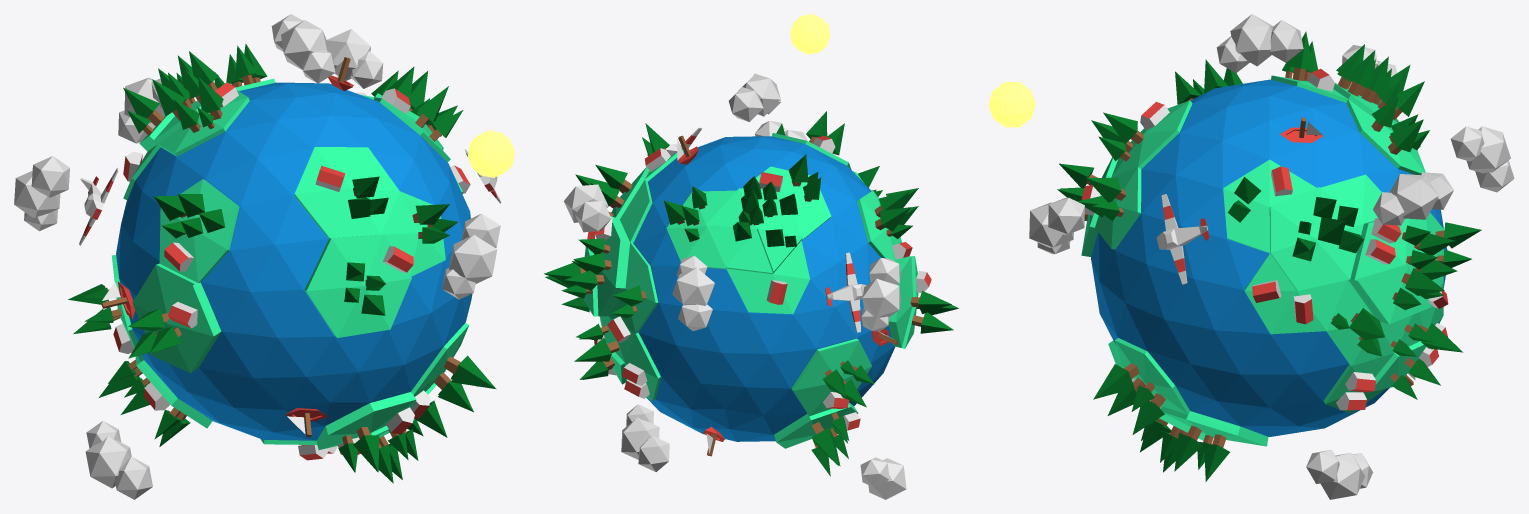
File: World.fbx
3 views of the same model, side by side, from view 1: azimuth 30°, elevation 25°; view 2: azimuth 150°, elevation 25°; view 3: azimuth 270°, elevation 25° (orthographic). The views are drawn at different scales.
Visible parts, largest first — view 1: Water, Earth, Icosphere.005, Icosphere.002, Icosphere.006, Icosphere, Icosphere.001, Sun, Icosphere.004, Plane.001, Tree.080, Tree.081 (+12 smaller); view 2: Water, Earth, Icosphere.006, Icosphere.004, Icosphere.003, Icosphere, Icosphere.001, Icosphere.005, Sun, Plane.001, Tree.054, Tree.065 (+7 smaller); view 3: Water, Earth, Icosphere, Icosphere.001, Icosphere.004, Icosphere.003, Icosphere.002, Sun, Plane, Tree.080, Tree.056, Tree.070 (+13 smaller).
Boxes of the visible parts, x1,y1,x2,y2 form: Water: [116, 82, 472, 440]; Earth: [111, 78, 468, 449]; Icosphere.005: [85, 421, 152, 499]; Icosphere.002: [442, 213, 500, 299]; Icosphere.006: [14, 156, 69, 231]; Icosphere: [271, 14, 335, 83]; Icosphere.001: [325, 29, 383, 88]; Sun: [468, 130, 514, 177]; Icosphere.004: [118, 77, 165, 143]; Plane.001: [79, 167, 118, 245]; Tree.080: [444, 355, 496, 389]; Tree.081: [353, 427, 379, 472]; Water: [633, 136, 894, 441]; Earth: [582, 133, 918, 448]; Icosphere.006: [861, 258, 900, 331]; Icosphere.004: [672, 255, 714, 331]; Icosphere.003: [621, 404, 669, 471]; Icosphere: [728, 73, 780, 121]; Icosphere.001: [563, 184, 611, 232]; Icosphere.005: [860, 457, 906, 499]; Sun: [790, 14, 830, 54]; Plane.001: [825, 252, 866, 332]; Tree.054: [574, 338, 619, 361]; Tree.065: [811, 422, 838, 465]; Water: [1091, 79, 1447, 436]; Earth: [1081, 75, 1444, 446]; Icosphere: [1216, 14, 1303, 73]; Icosphere.001: [1373, 172, 1453, 225]; Icosphere.004: [1450, 126, 1514, 192]; Icosphere.003: [1306, 449, 1373, 499]; Icosphere.002: [1029, 197, 1084, 254]; Sun: [988, 82, 1035, 127]; Plane: [1156, 194, 1209, 284]; Tree.080: [1093, 363, 1139, 399]; Tree.056: [1349, 308, 1384, 339]; Tree.070: [1204, 434, 1229, 481].
Size of the model in its own units: 275 by 281 by 308.
